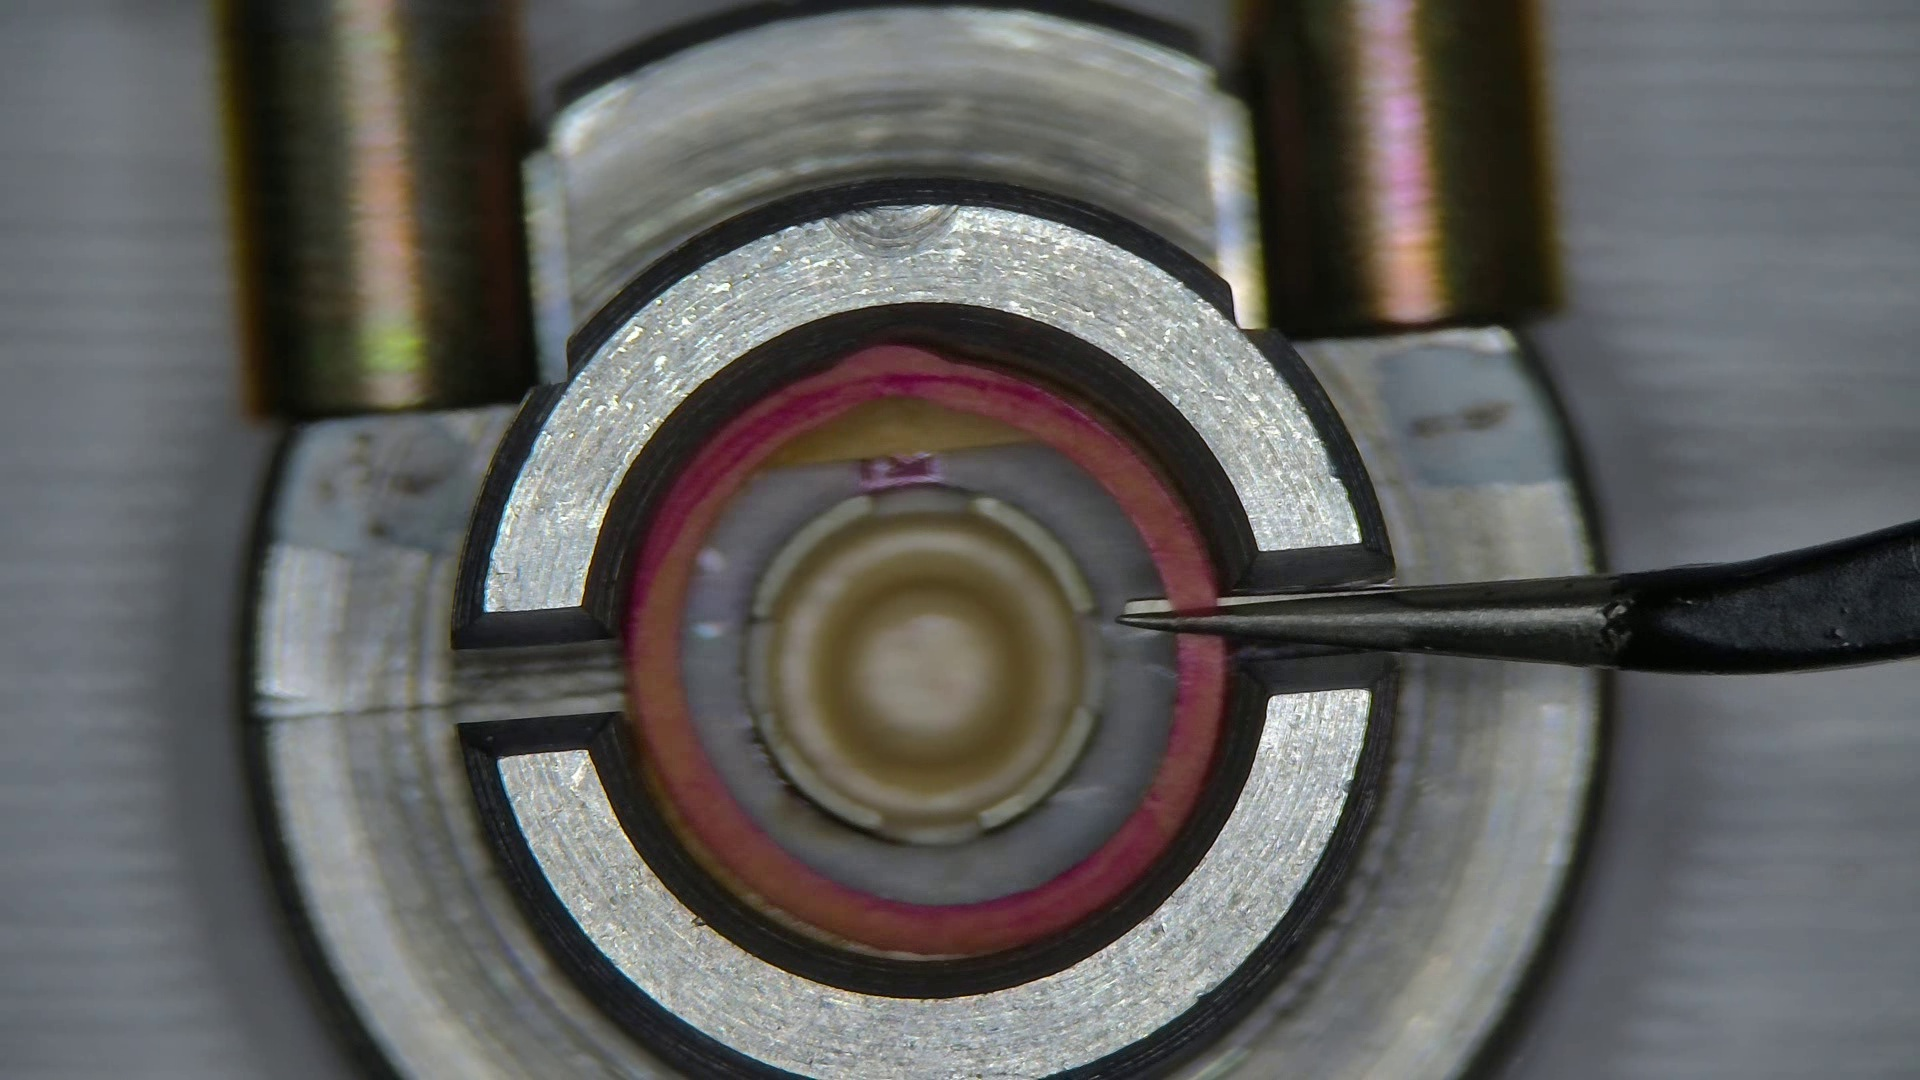GreyOring: (630, 343, 1224, 956)
YellowOring: (686, 448, 1174, 902)
redOring: (757, 400, 1040, 463)
